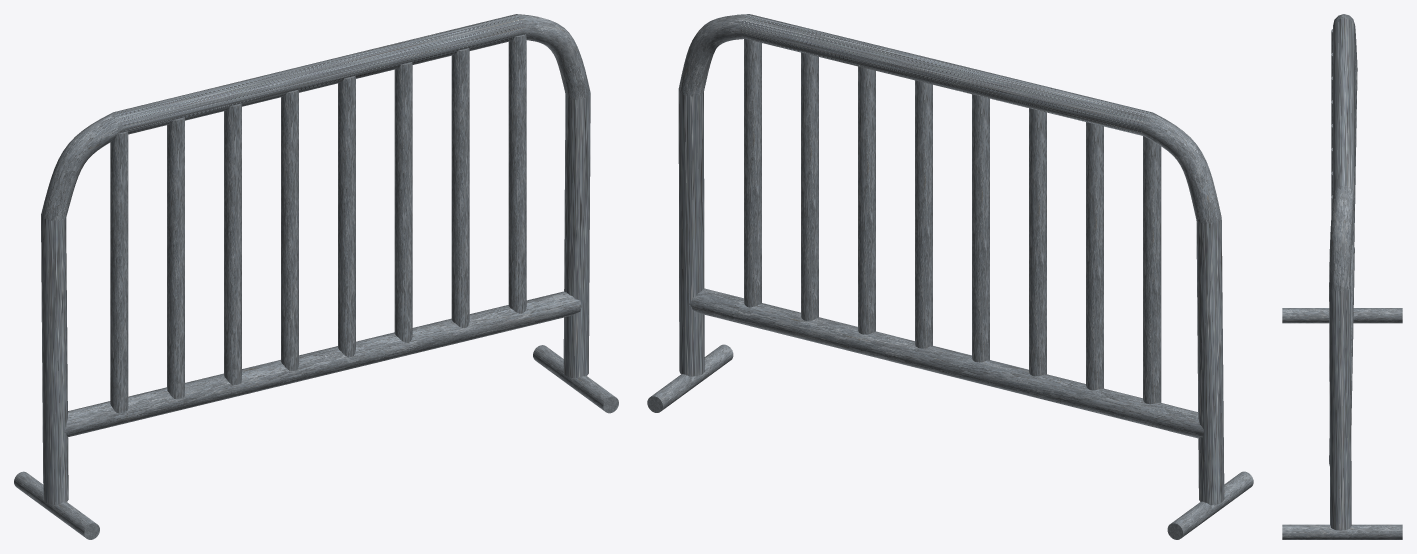
File: barrera.obj
3 views of the same model, side by side, from view 1: azimuth 30°, elevation 25°; view 2: azimuth 150°, elevation 25°; view 3: azimuth 270°, elevation 25° (orthographic). The views are drawn at different scales.
Visible parts, largest first — view 1: BézierCurve.002; view 2: BézierCurve.002; view 3: BézierCurve.002.
Part boxes in pixels (x1=…): BézierCurve.002: x1=14, y1=14, x2=618, y2=539; BézierCurve.002: x1=647, y1=14, x2=1253, y2=539; BézierCurve.002: x1=1282, y1=14, x2=1402, y2=539.
Size of the model in its own units: 2.71 by 1.84 by 0.6092.
1 material, 1 textured.
